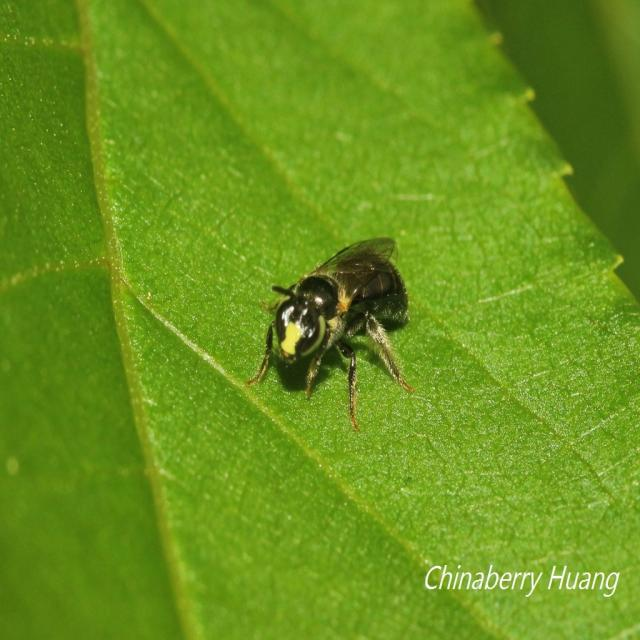Meliponula: (235, 215, 432, 459)
